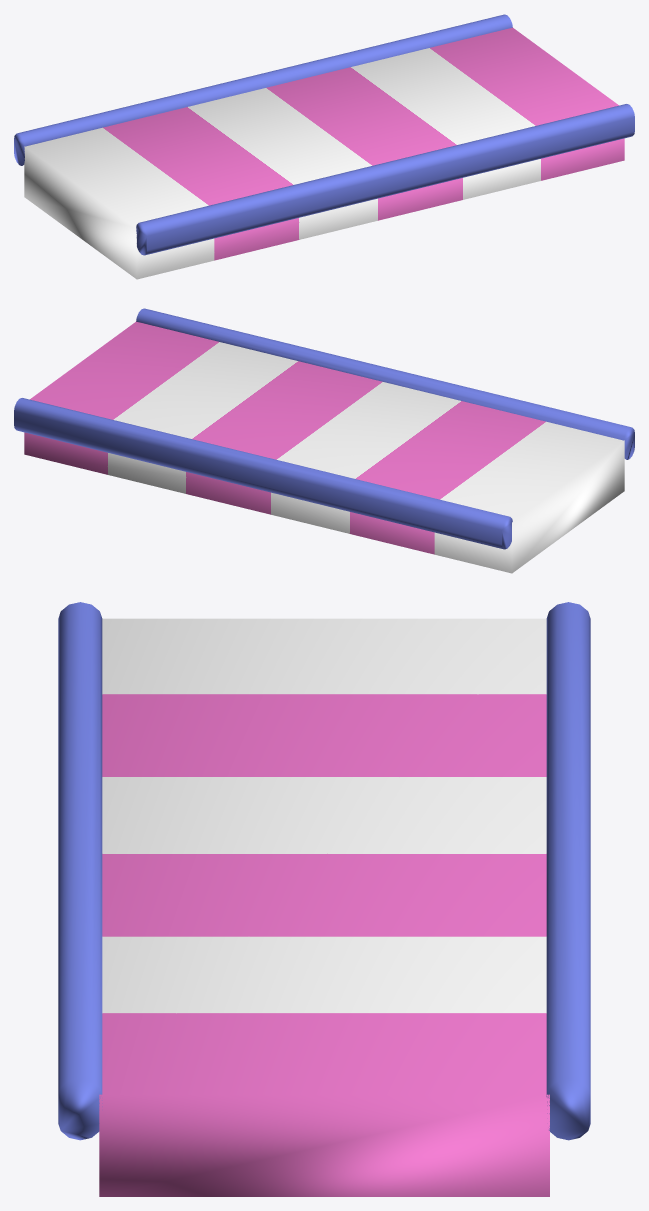
File: platform (2).fbx
3 views of the same model, one above another, from view 1: azimuth 30°, elevation 25°; view 2: azimuth 150°, elevation 25°; view 3: azimuth 270°, elevation 25° (orthographic). The views are drawn at different scales.
Parts seen in each view (by area): view 1: Cube; view 2: Cube; view 3: Cube.
Boxes of the visible parts, x1,y1,x2,y2 form: Cube: (14,14,634,279); Cube: (14,308,634,573); Cube: (58,602,590,1196).
Size of the model in its own units: 1000 by 116 by 473.
